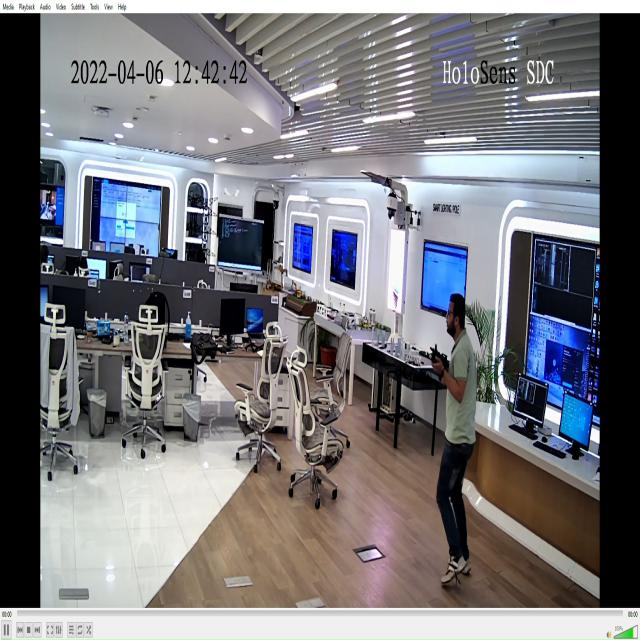long weapon: (422, 335, 454, 391)
